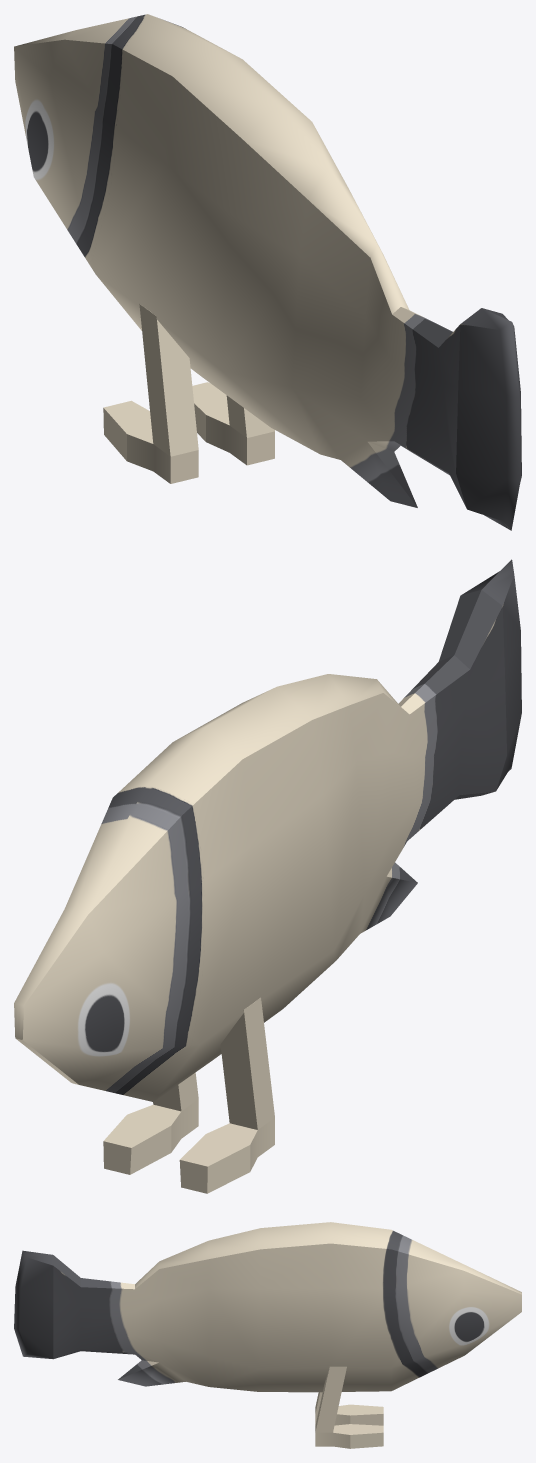
The model's file is Bungeo_fish.fbx.
3 renders of one model, top to bottom at view 1: azimuth 30°, elevation 25°; view 2: azimuth 150°, elevation 25°; view 3: azimuth 270°, elevation 25°, orthographic. The views are drawn at different scales.
Parts seen in each view (by area): view 1: Body; view 2: Body; view 3: Body.
Part boxes in pixels (x1,y1,x2,y2): Body: (14, 14, 521, 530); Body: (14, 559, 521, 1193); Body: (14, 1222, 521, 1448).
Bounding box in the file's own units: 103 × 334 × 728.
1 material, 1 textured.
